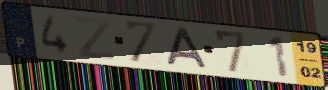1: (267, 36, 291, 80)
4: (39, 13, 71, 56)
7: (212, 28, 250, 75), (125, 19, 160, 65)
A: (165, 26, 211, 71)
Z: (73, 15, 116, 62)
